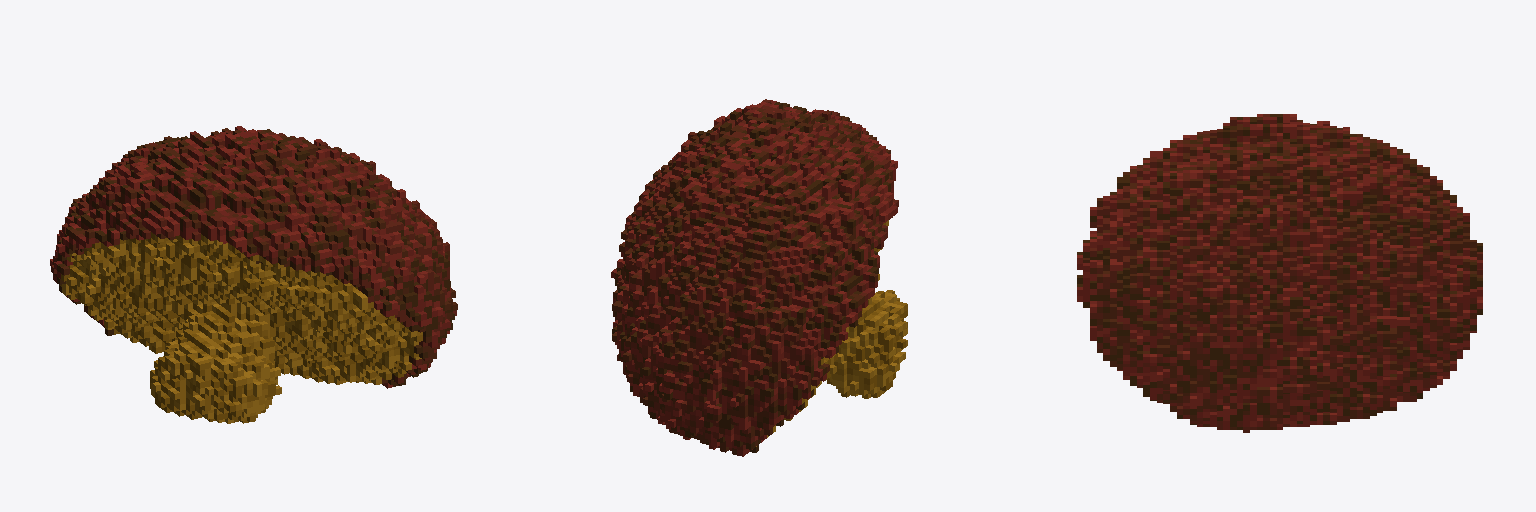
3 views of the same model, side by side, from view 1: azimuth 30°, elevation 25°; view 2: azimuth 150°, elevation 25°; view 3: azimuth 270°, elevation 25° (orthographic).
Parts seen in each view (by area): view 1: object 1; view 2: object 1; view 3: object 1.
Part boxes in pixels (left/top/right/bottom): object 1: left=50, top=126, right=457, bottom=423; object 1: left=611, top=99, right=907, bottom=456; object 1: left=1077, top=114, right=1482, bottom=432.
Bounding box in the file's own units: 4.8 × 4 × 6.1.
1 materials, 1 textured.